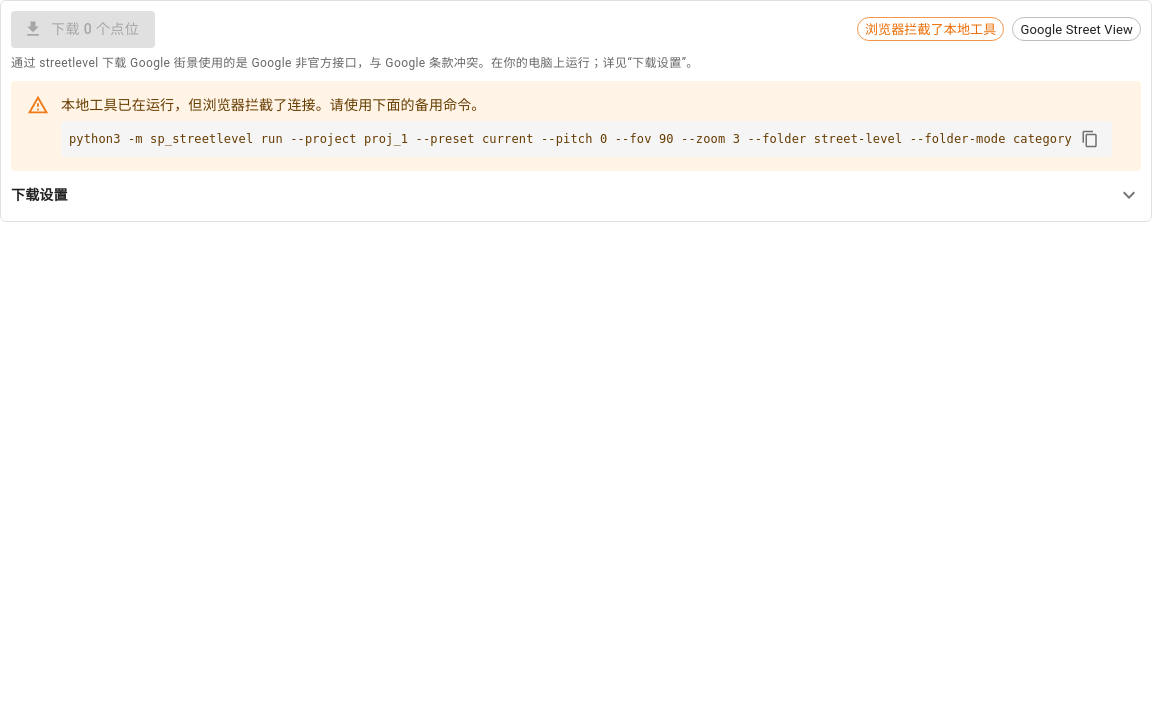
Test: street-level download panel when the browser blocks the helper › says the same thing in Chinese
Expected: the button with test id "helper-blocked-chip" reads "浏览器拦截了本地工具", x1=857 y1=17 x2=1004 y2=41
Expected: the message with test id "helper-blocked" shows "本地工具已在运行，但浏览器拦截了连接。请使用下面的备用命令。", x1=61 y1=97 x2=486 y2=113
What coordinates should you click on to do the following:
click the button "下载设置"
I would click on:
 (39, 195)
Its box is x1=11 y1=179 x2=1141 y2=211.
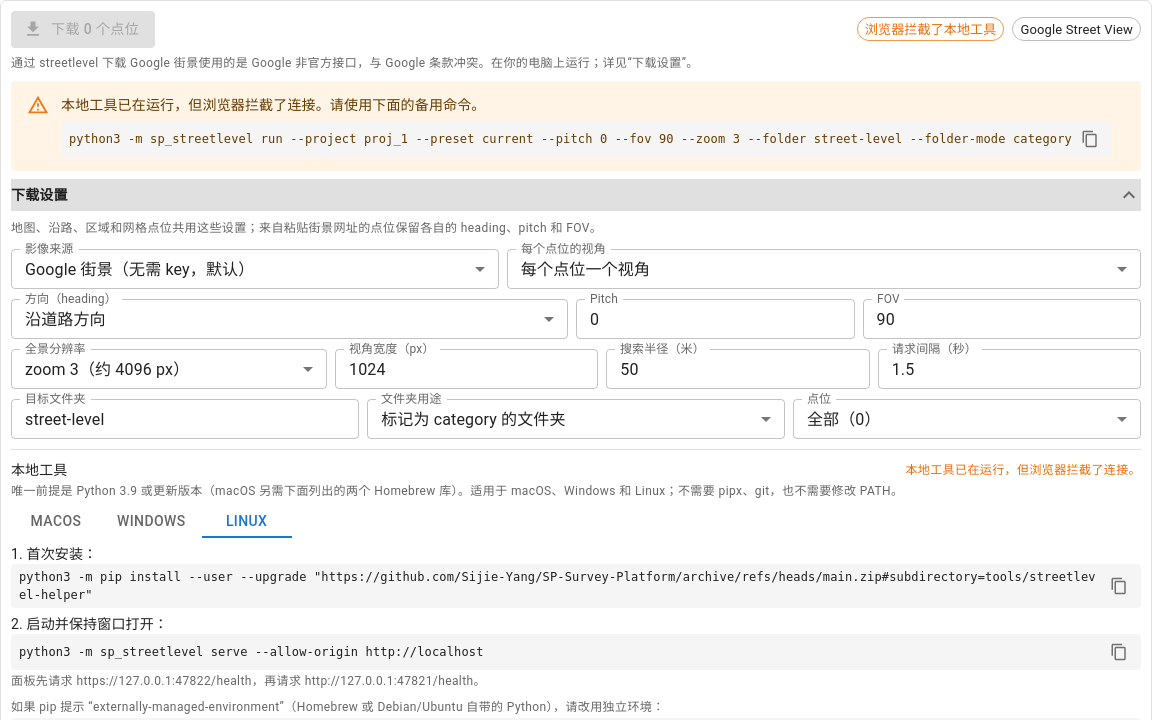
What coordinates should you click on to do the following:
click the tab "macOS"
I would click on:
 (56, 522)
Its box is x1=11 y1=506 x2=101 y2=538.
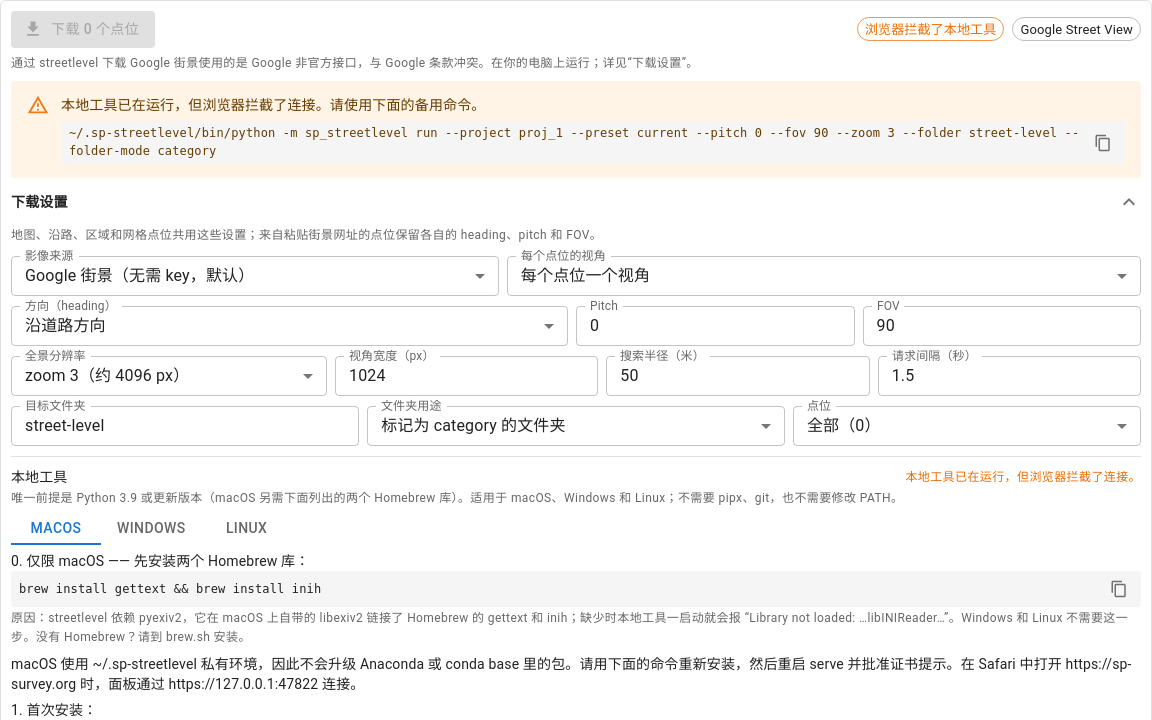
Expected: the text with test id "mac-reinstall" shows "~/.sp-streetlevel", x1=11 y1=656 x2=1132 y2=692
Expected: the text with test id "mac-reinstall" shows "不会升级 Anaconda", x1=11 y1=656 x2=1132 y2=692
Expected: the text with test id "mac-reinstall" shows "https://127.0.0.1:47822", x1=11 y1=656 x2=1132 y2=692
